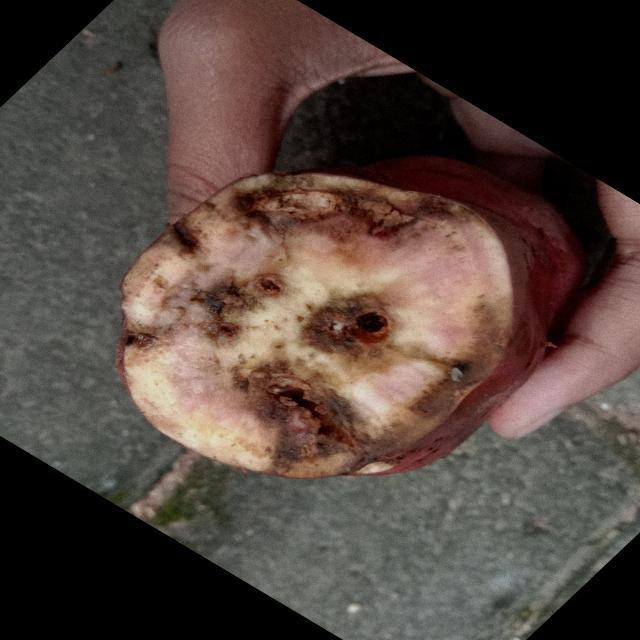Sick Sweet Potato_Tuber Rot: (117, 172, 545, 479)
